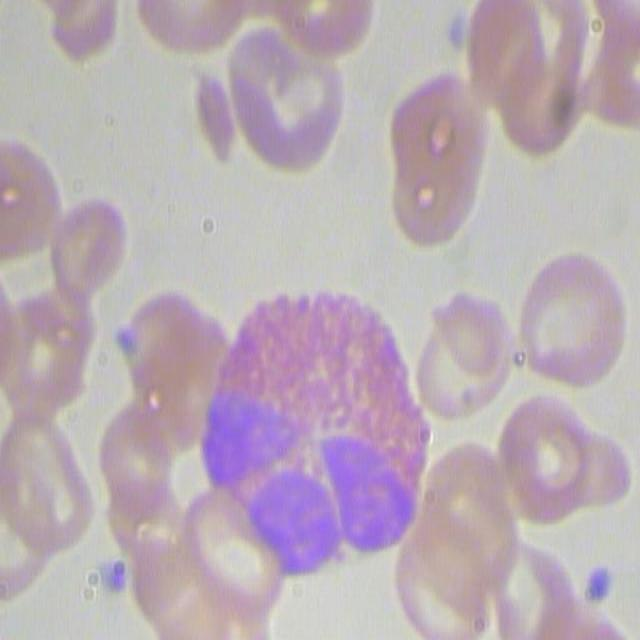RBC: (203, 0, 349, 178), (391, 429, 512, 640), (455, 0, 596, 157), (493, 372, 617, 534), (503, 245, 629, 394), (385, 67, 489, 244), (113, 287, 224, 438), (185, 483, 285, 638), (408, 284, 512, 432), (0, 415, 90, 556), (97, 403, 183, 547), (2, 298, 87, 419), (476, 534, 568, 638), (0, 131, 62, 271), (51, 193, 128, 302), (277, 0, 383, 66), (132, 0, 249, 58), (32, 0, 128, 65)
WBC: (218, 286, 438, 566)
platelets: (95, 554, 134, 602), (573, 567, 619, 605)
